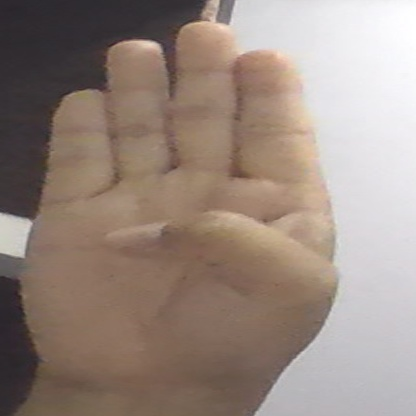B: (16, 19, 338, 410)
